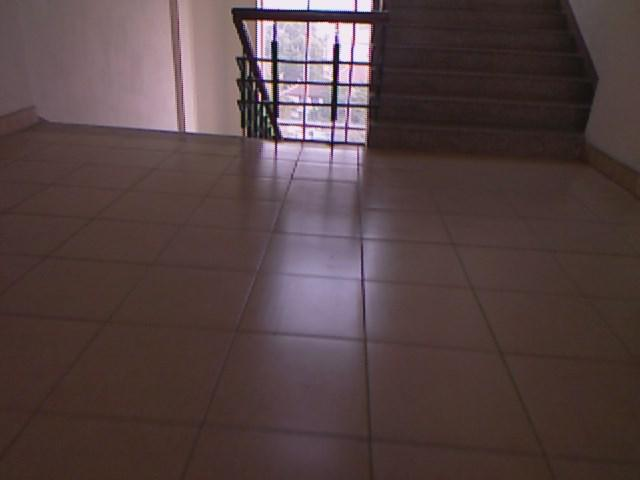Escaleras: (377, 8, 591, 154), (48, 110, 252, 150)
